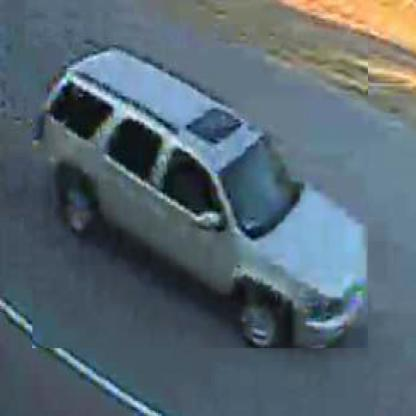car: (34, 42, 371, 351)
